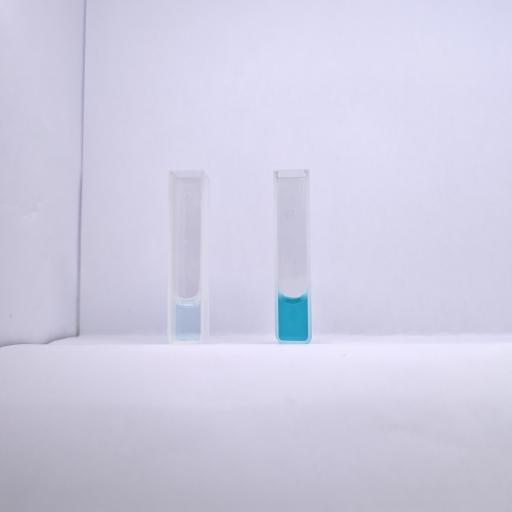cuvette: (270, 167, 314, 346), (166, 168, 206, 346)
liquid: (278, 293, 308, 341), (174, 297, 201, 341)
